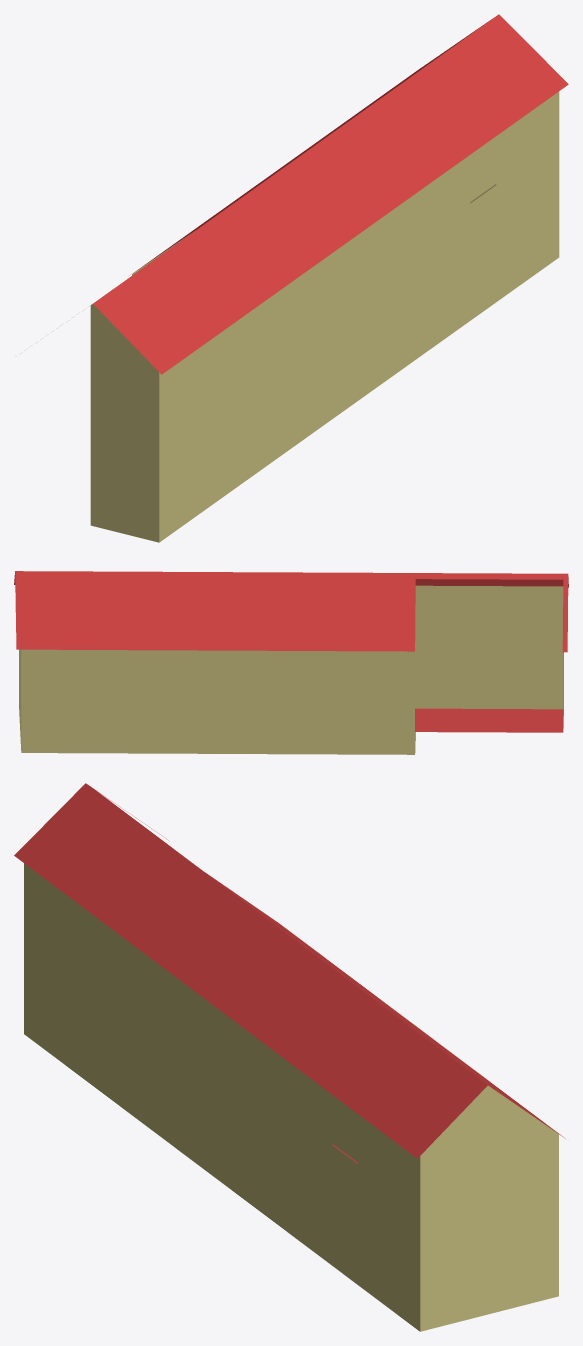
3 views of the same model, one above another, from view 1: azimuth 30°, elevation 25°; view 2: azimuth 150°, elevation 25°; view 3: azimuth 270°, elevation 25° (orthographic). The views are drawn at different scales.
Bounding box in the file's own units: 55.01 × 37.96 × 17.57.
